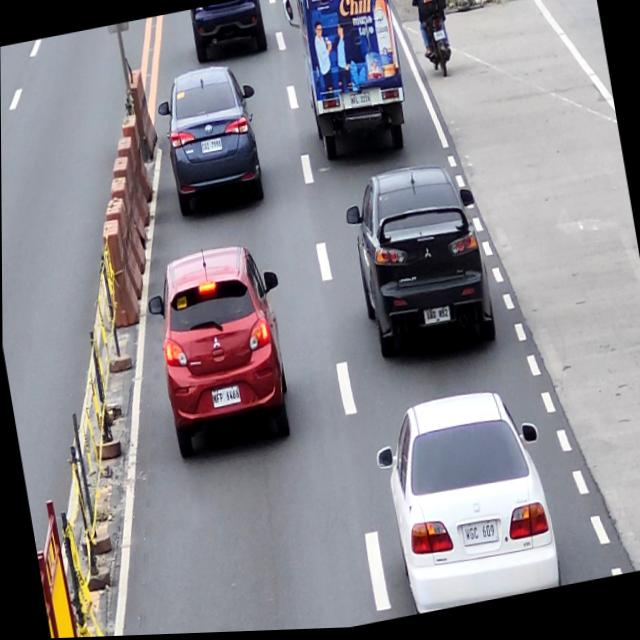Car: (368, 382, 564, 621), (141, 238, 303, 464), (339, 159, 499, 373), (151, 62, 274, 223), (189, 0, 269, 66)
License-Plate: (461, 523, 499, 550), (211, 389, 241, 410), (423, 307, 451, 328), (199, 138, 222, 157), (350, 94, 372, 111), (433, 34, 447, 45)
Motorcycle: (405, 0, 458, 86)
Truck: (281, 0, 416, 172)
